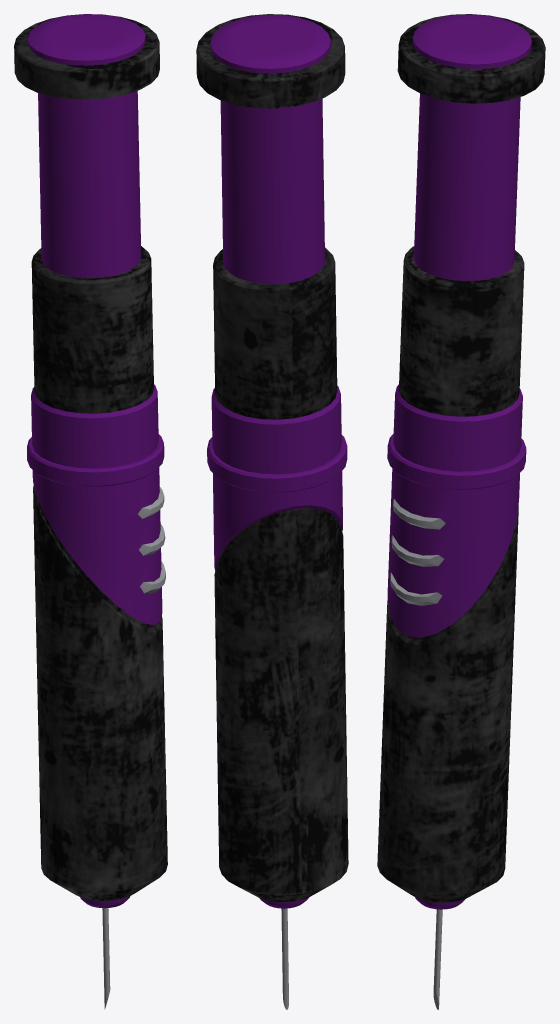
Rendered from stim.fbx.
3 views of the same model, side by side, from view 1: azimuth 30°, elevation 25°; view 2: azimuth 150°, elevation 25°; view 3: azimuth 270°, elevation 25° (orthographic). The views are drawn at different scales.
Visible parts, largest first — view 1: Circle.005; view 2: Circle.005; view 3: Circle.005.
Part boxes in pixels (bbox=[...]): Circle.005: bbox=[14, 14, 167, 1009]; Circle.005: bbox=[196, 14, 348, 1009]; Circle.005: bbox=[377, 14, 545, 1009].
Size of the model in its own units: 2.72 by 19.89 by 3.11.
